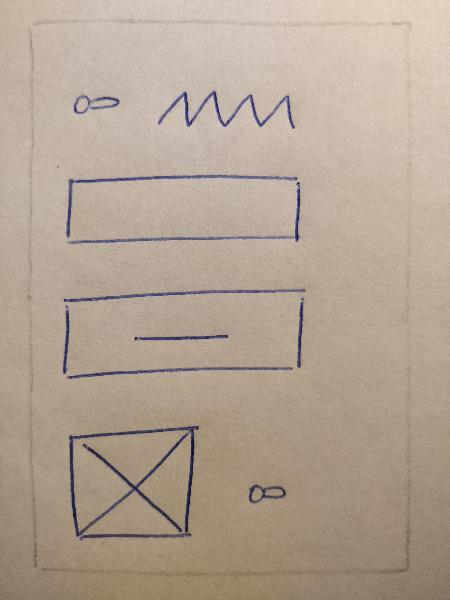button: (46, 280, 325, 384)
image: (55, 419, 210, 553)
switch: (64, 80, 126, 122), (239, 469, 295, 510)
text: (149, 76, 305, 139)
text_input: (57, 167, 313, 250)
